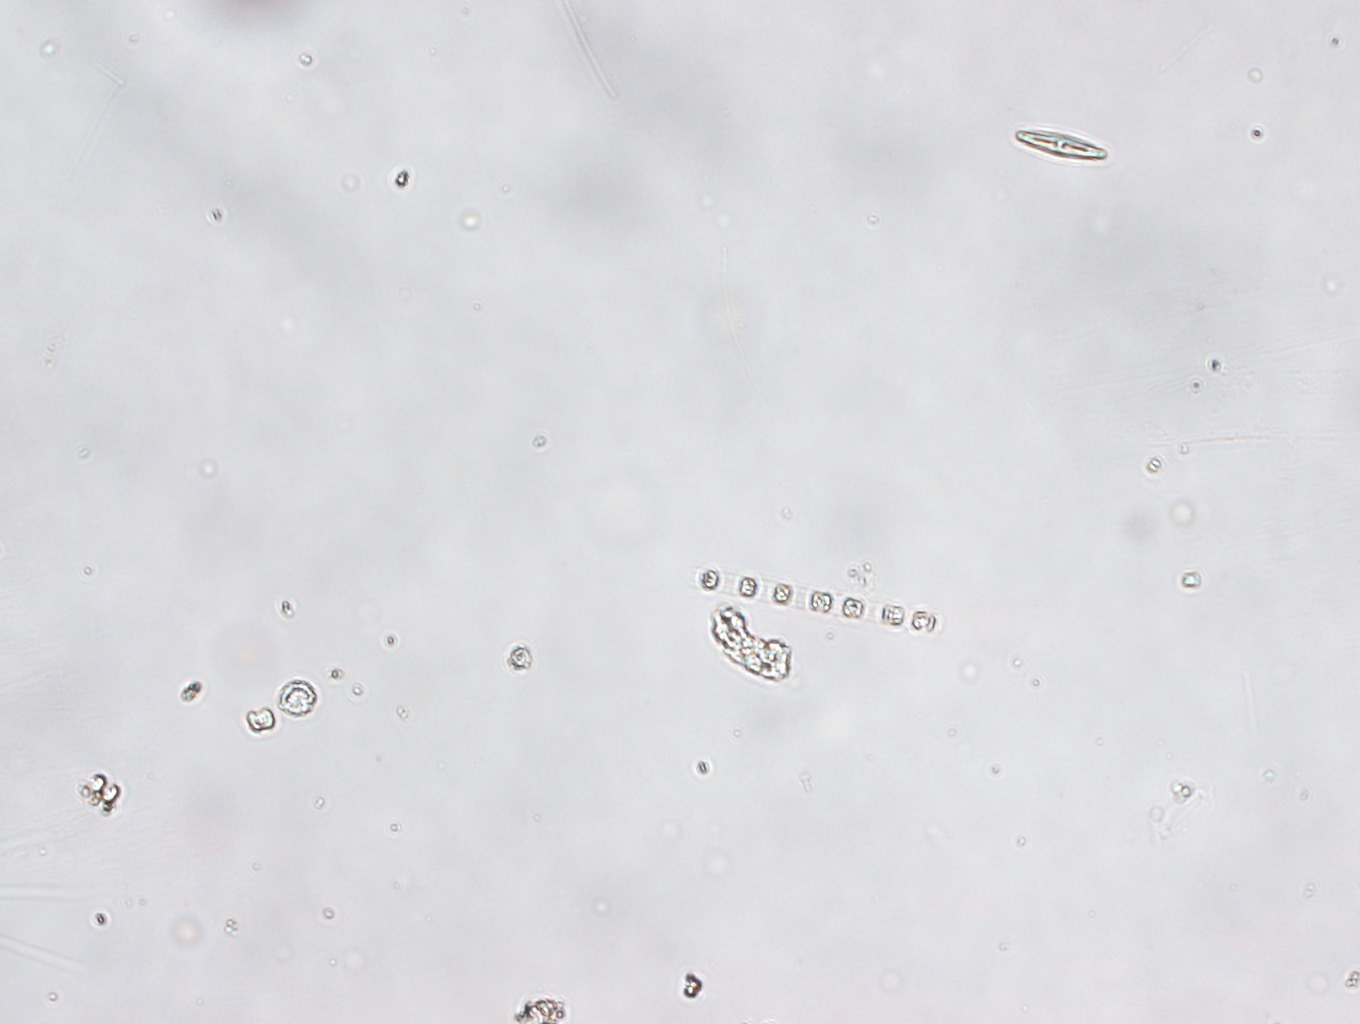navicula: (1012, 128, 1110, 161)
skeletonema: (696, 566, 945, 643)
